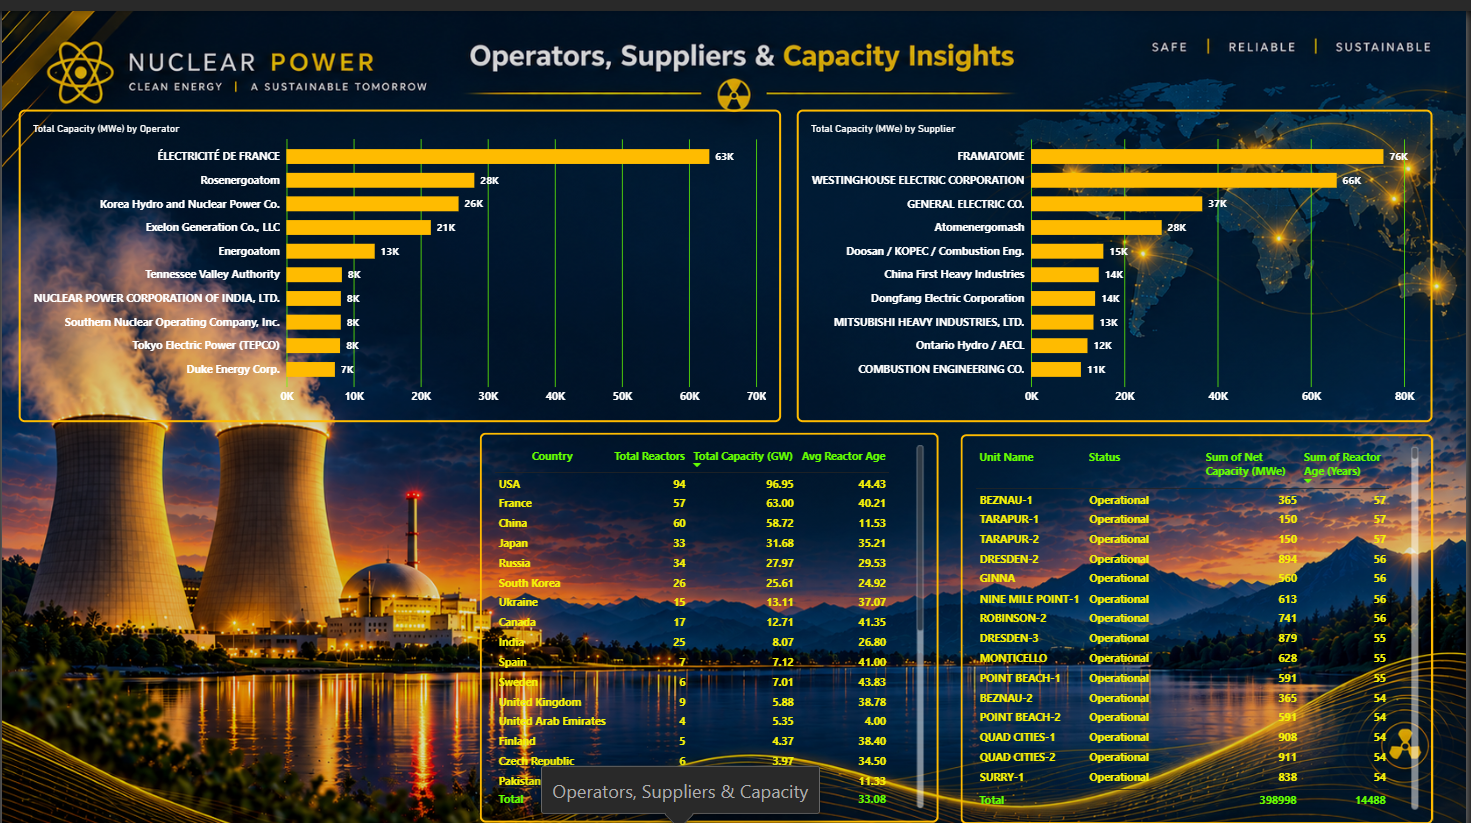

The dashboard page shown, as its layout file describes it:
{"tool":"powerbi","page":{"name":"Operators, Suppliers & Capacity","canvas":[1920,1080],"ordinal":2},"visuals":[{"type":"clusteredBarChart","fields":{"Category":["Reactors.Supplier"],"Y":["Reactors.Total Capacity (MWe)"]},"box":[1043.3,130,834,410],"z":0},{"type":"clusteredBarChart","fields":{"Category":["Reactors.Operator"],"Y":["Reactors.Total Capacity (MWe)"]},"box":[22,130,1000,410],"z":1},{"type":"tableEx","fields":{"Values":["Reactors.Country ","Reactors.Total Reactors","Reactors.Total Capacity (GW)","Reactors.Avg Reactor Age"]},"box":[626.2,553.8,601.7,511.7],"z":2},{"type":"tableEx","fields":{"Values":["Reactors.Unit Name","Reactors.Status","Sum(Reactors.Net Capacity (MWe))","Sum(Reactors.Reactor Age (Years))"]},"box":[1257.5,555,620,511.7],"z":3}]}

Visuals, with their boxes in screenshot pixels (x1, y1, x2, y2), scaled from the page's 1920x1080 canvas onto the 1471x823 screenshot:
clusteredBarChart - Reactors.Supplier x Reactors.Total Capacity (MWe): (x1=799, y1=99, x2=1438, y2=412)
clusteredBarChart - Reactors.Operator x Reactors.Total Capacity (MWe): (x1=17, y1=99, x2=783, y2=412)
tableEx - Reactors.Country  x Reactors.Total Reactors: (x1=480, y1=422, x2=941, y2=812)
tableEx - Reactors.Unit Name x Reactors.Status: (x1=963, y1=423, x2=1438, y2=813)
